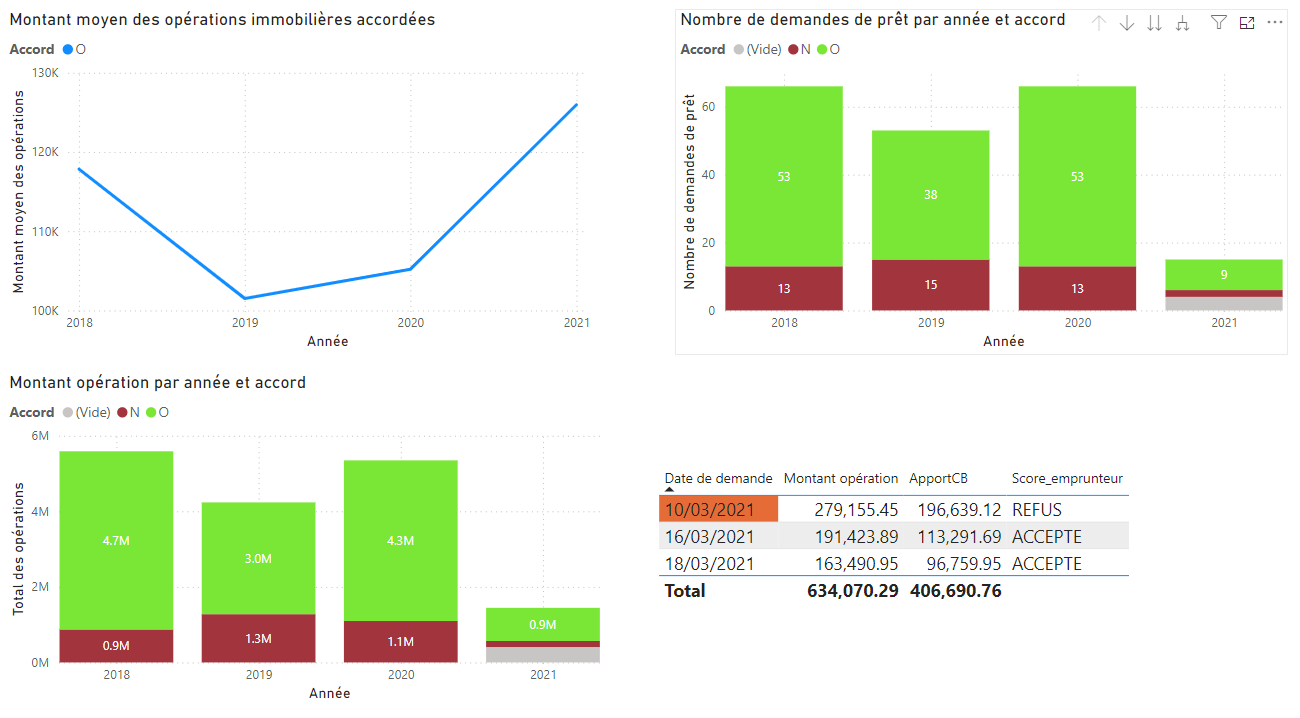

What the dashboard file says about the page in this screenshot:
{"tool":"powerbi","page":{"name":"Demandes de prêts","canvas":[1280,720],"ordinal":2},"visuals":[{"type":"lineChart","title":"Montant moyen des opérations immobilières accordées","fields":{"Series":["Demandes de pret.Accord"],"Category":["Demandes de pret.Date de demande.Variation.Date Hierarchy.Year"],"Y":["Avg(Demandes de pret.Montant opération)"]},"box":[9.7,0,574.8,336.5],"z":0},{"type":"columnChart","title":"Montant opération par année et accord","fields":{"Category":["Demandes de pret.Date de demande.Variation.Date Hierarchy.Year"],"Series":["Demandes de pret.Accord"],"Y":["Demandes de pret.ApportCB"]},"box":[0,393.9,584.6,325.8],"z":1000},{"type":"tableEx","fields":{"Values":["Demandes de pret.Date de demande","Sum(Demandes de pret.Montant opération)","Demandes de pret.ApportCB","Demandes de pret.Score_emprunteur"]},"box":[640.7,464.2,639.3,185.7],"z":2000},{"type":"columnChart","title":"Nombre de demandes de prêt par année et accord","fields":{"Y":["CountNonNull(Demandes de pret.Numéro demande de prêt)"],"Series":["Demandes de pret.Accord"],"Category":["Demandes de pret.Date de demande.Variation.Date Hierarchy.Year","Demandes de pret.Date de demande.Variation.Date Hierarchy.Quarter","Demandes de pret.Date de demande.Variation.Date Hierarchy.Month","Demandes de pret.Date de demande.Variation.Date Hierarchy.Day"]},"box":[750.9,0,529.1,328.8],"z":3000}]}

Visuals, with their boxes in screenshot pixels (x1, y1, x2, y2), scaled from the page's 1280x720 canvas onto the 1300x718 screenshot:
"Montant moyen des opérations immobilières accordées" lineChart: 10 0 594 336
"Montant opération par année et accord" columnChart: 0 393 594 717
tableEx - Demandes de pret.Date de demande x Sum(Demandes de pret.Montant opération): 651 463 1299 648
"Nombre de demandes de prêt par année et accord" columnChart: 763 0 1299 328
